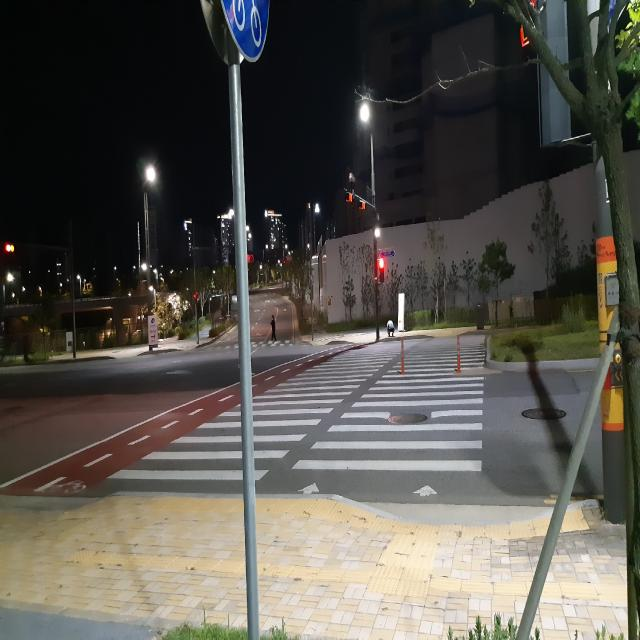빨간불: (378, 259, 384, 283)
횡단보도: (105, 334, 487, 496)
